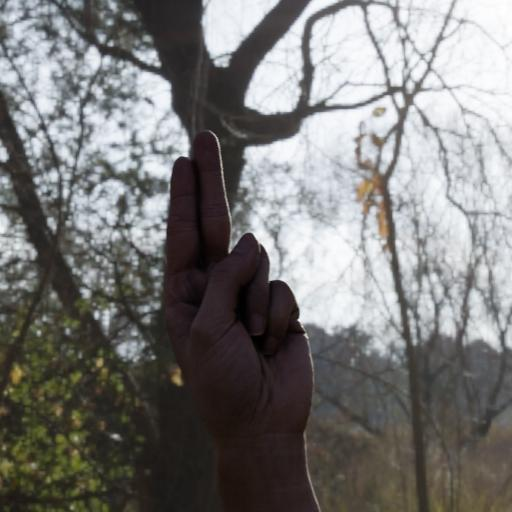U: (157, 122, 320, 512)
